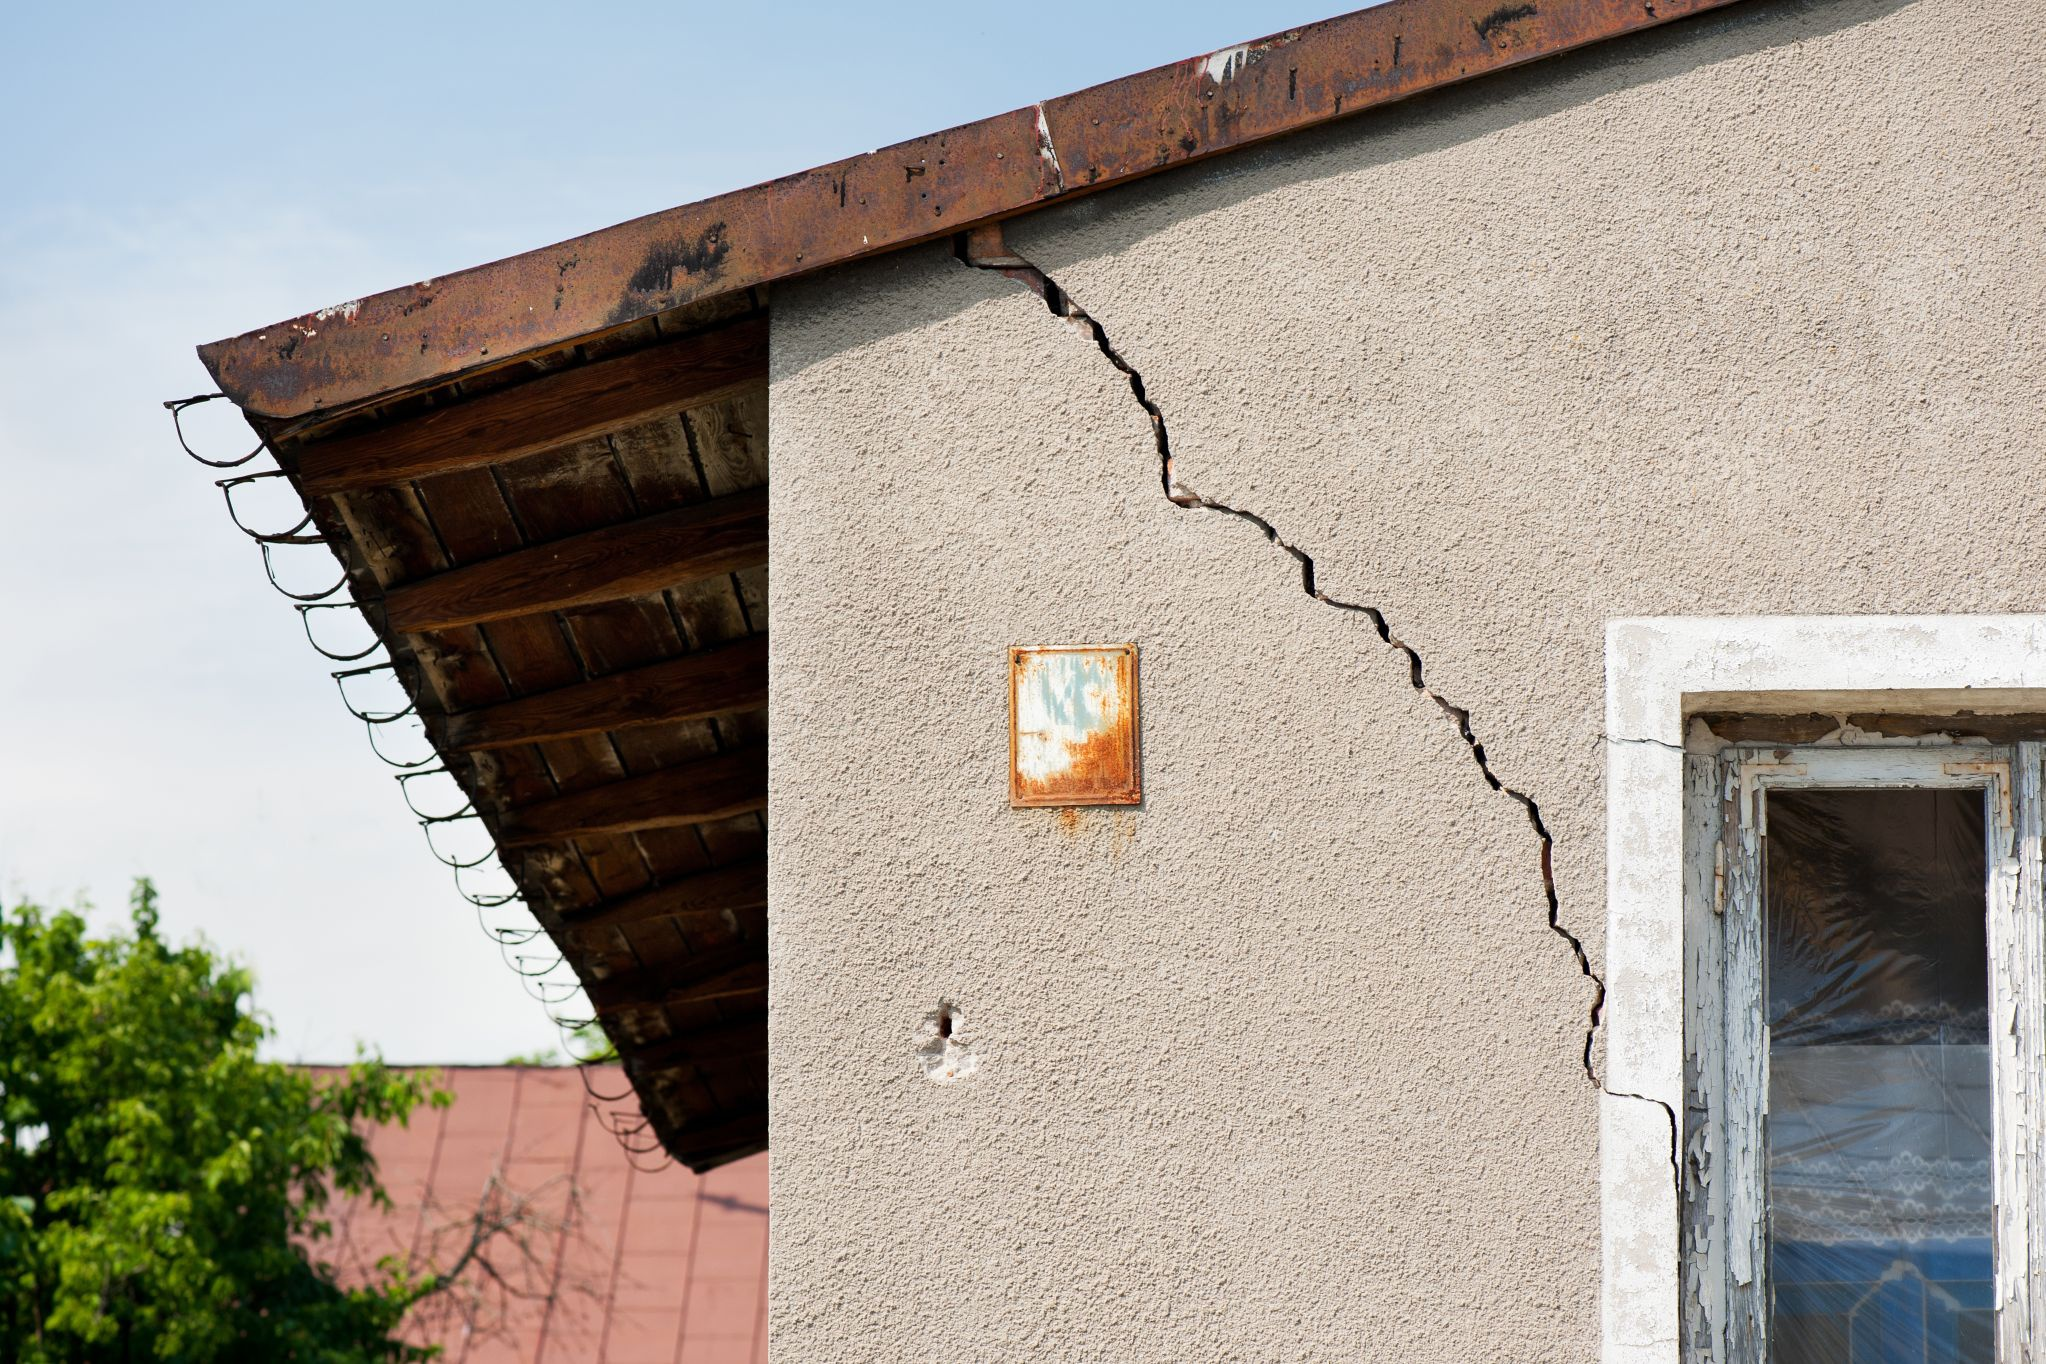crack: (1227, 534, 1411, 653), (1387, 676, 1554, 805), (1095, 381, 1248, 515), (974, 256, 1152, 359), (1503, 830, 1614, 985)
